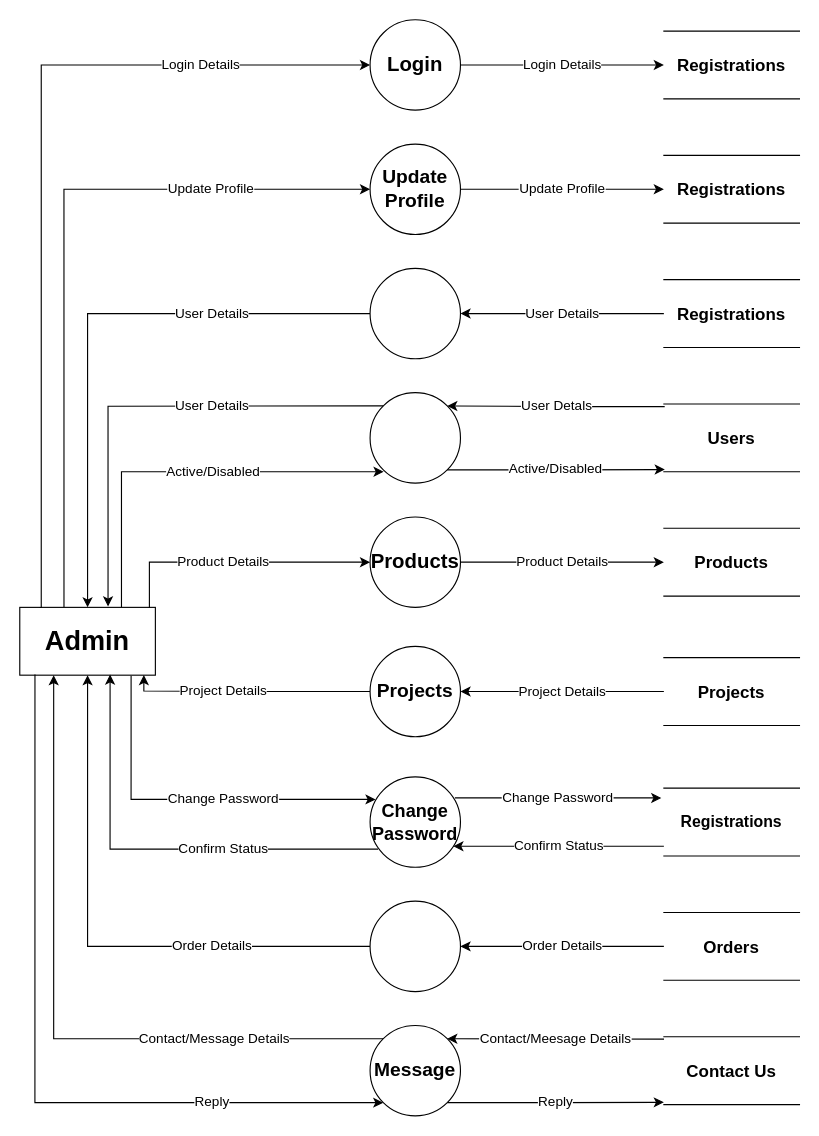
Some shapes in this 819 by 1136 pixel diagram are drawn without their labels. Here are the shapes that lost their labels. From the top down, the centre of each, then its label:
the point at 414,313: Report
the point at 414,437: Manage Users
the point at 414,946: Order
